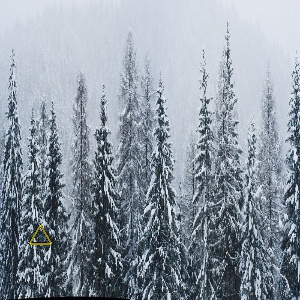triangle: (25, 222, 55, 248)
